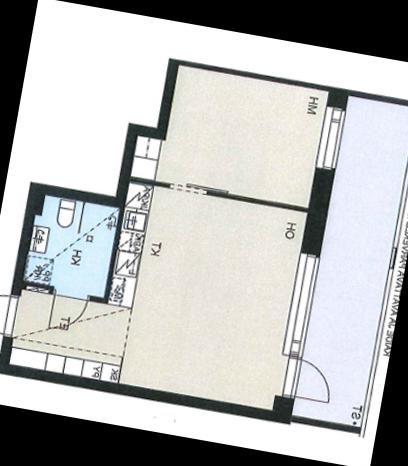door: (279, 354, 336, 406), (0, 288, 20, 337)
window: (276, 247, 324, 360), (310, 100, 348, 175)
